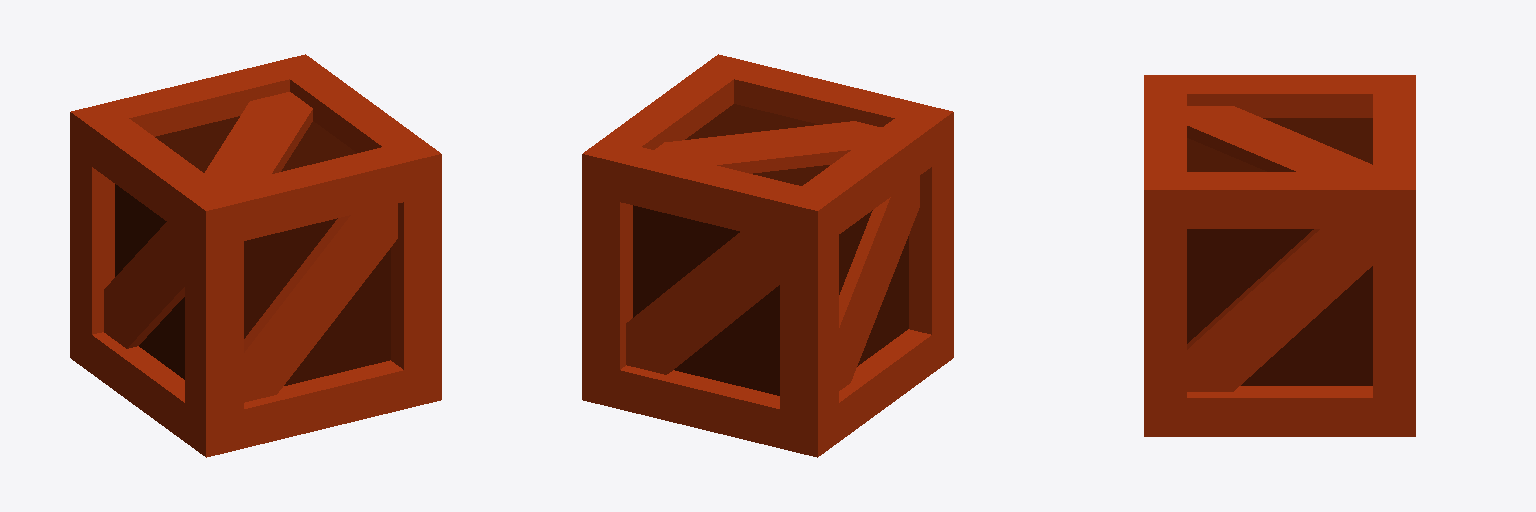
The model's file is new_crate.obj.
The picture shows the model from 3 angles: view 1: azimuth 30°, elevation 25°; view 2: azimuth 150°, elevation 25°; view 3: azimuth 270°, elevation 25°; orthographic projection.
Parts seen in each view (by area): view 1: crate; view 2: crate; view 3: crate.
Part boxes in pixels (left/top/right/bottom): crate: left=70, top=54, right=441, bottom=457; crate: left=582, top=54, right=953, bottom=457; crate: left=1144, top=75, right=1415, bottom=436.
Size of the model in its own units: 0.5 by 0.5 by 0.5.